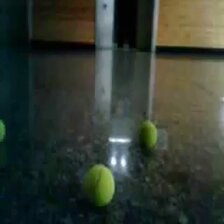tennis: (82, 163, 115, 205), (137, 121, 158, 150)
